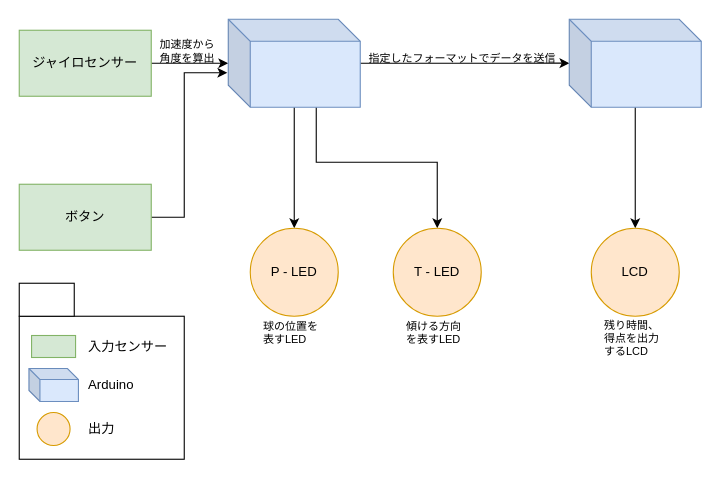
The diagram is 721 pixels wide and 479 high, and some of its shapes have lost their labels. Each missing label, with the centre of its shape:
"BackArduino" belongs at point (293, 62).
"FrontArduino" belongs at point (634, 62).
"凡例" belongs at point (46, 299).
